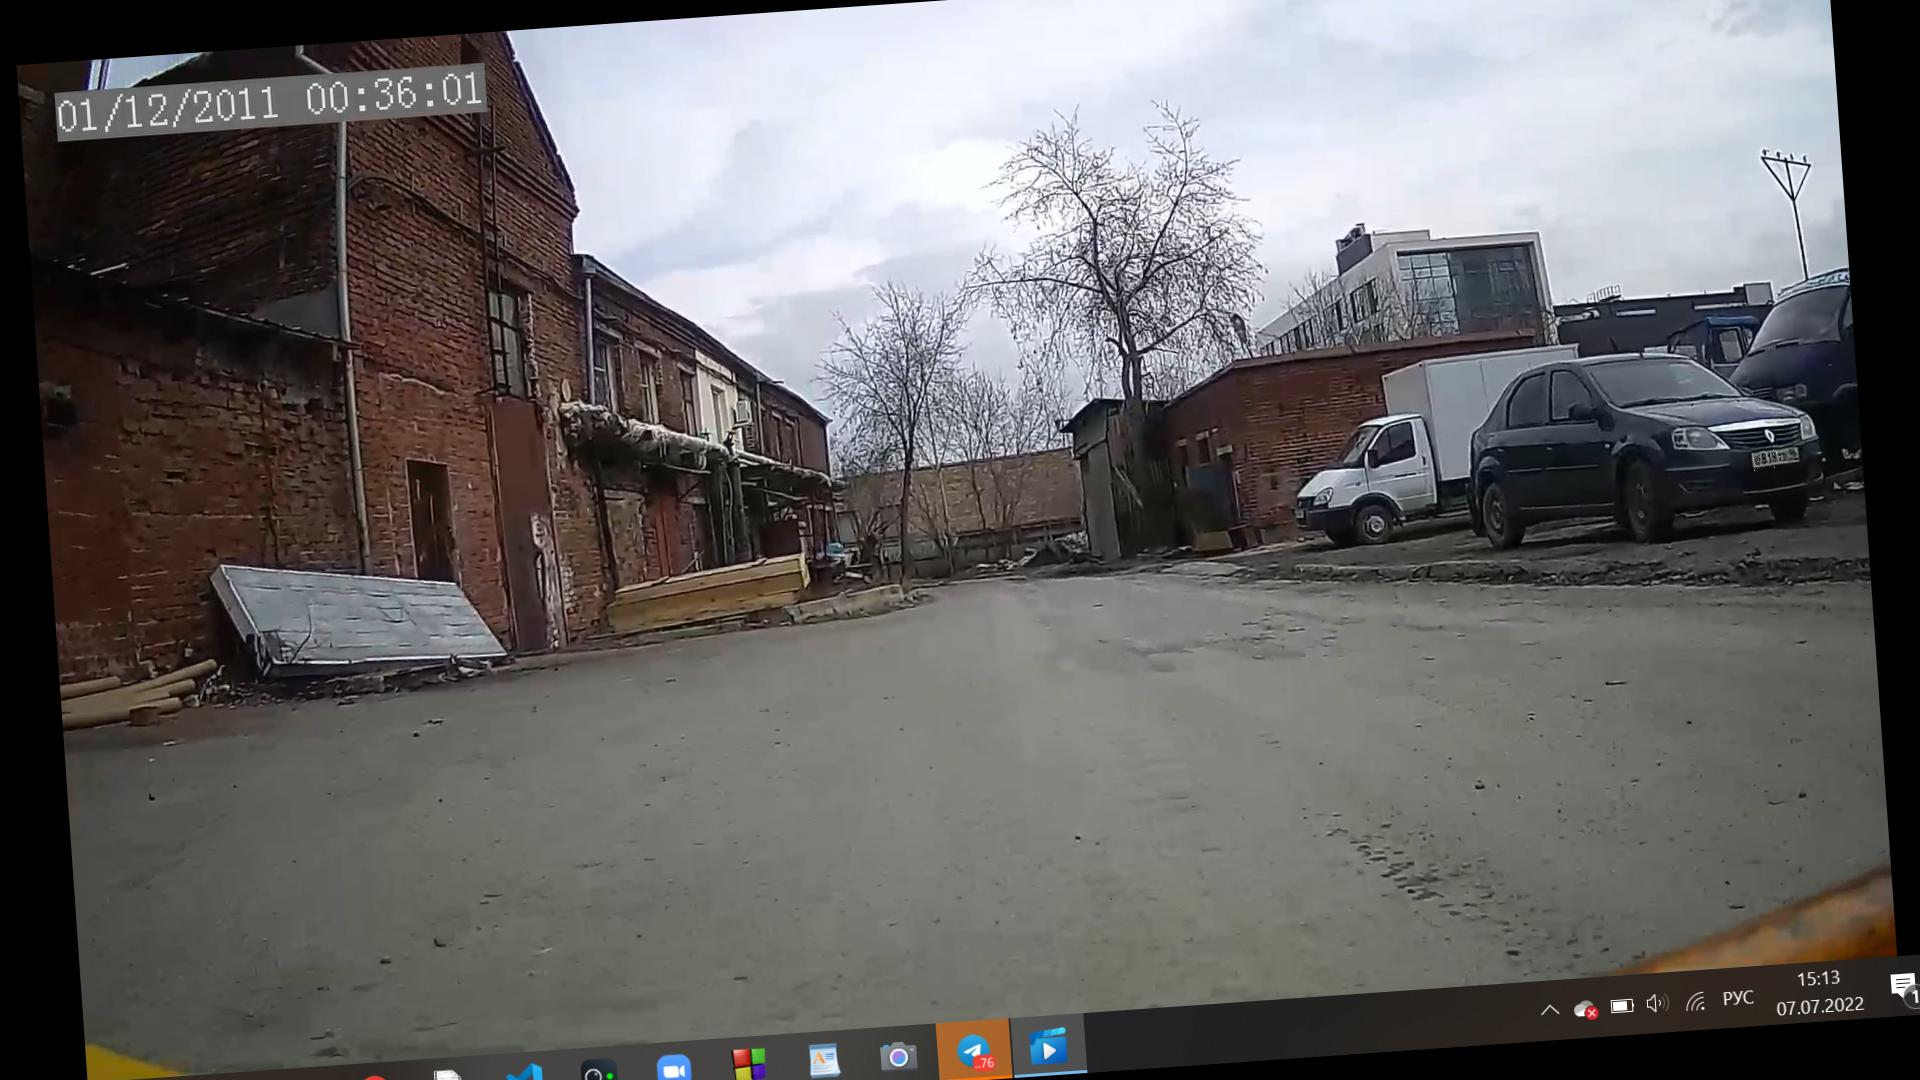plate: (1753, 445, 1804, 472)
